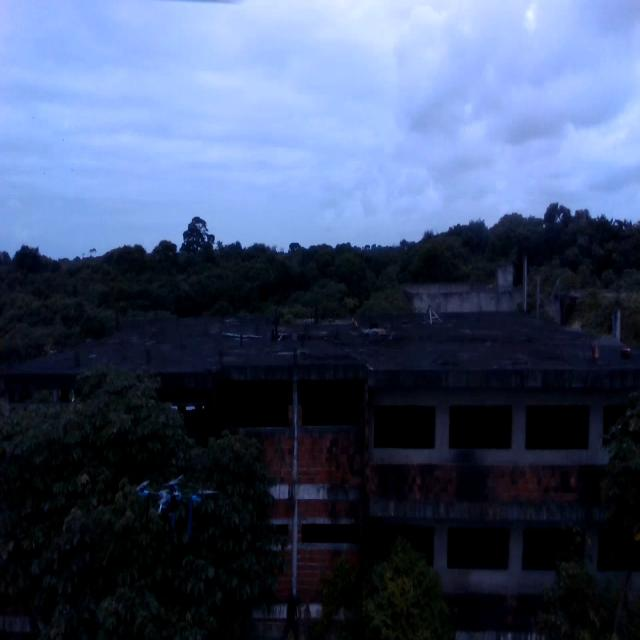-uav-: (124, 458, 225, 551)
